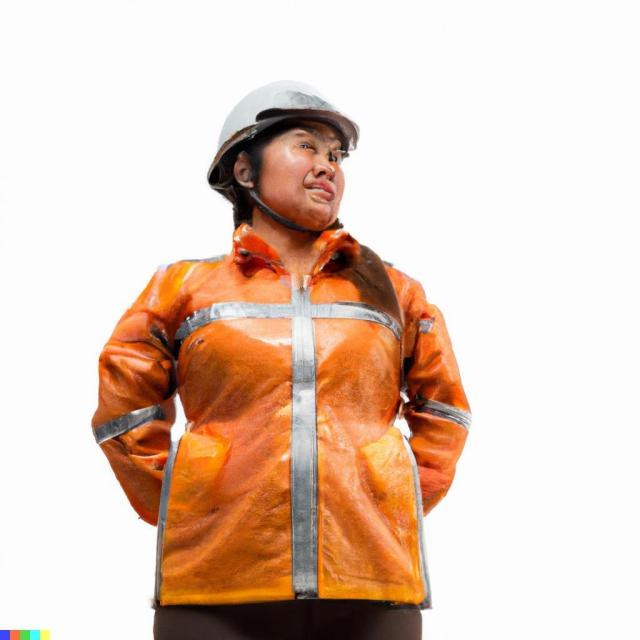Reflective-Jacket: (117, 235, 446, 618)
Safety-Helmet: (198, 73, 366, 194)
